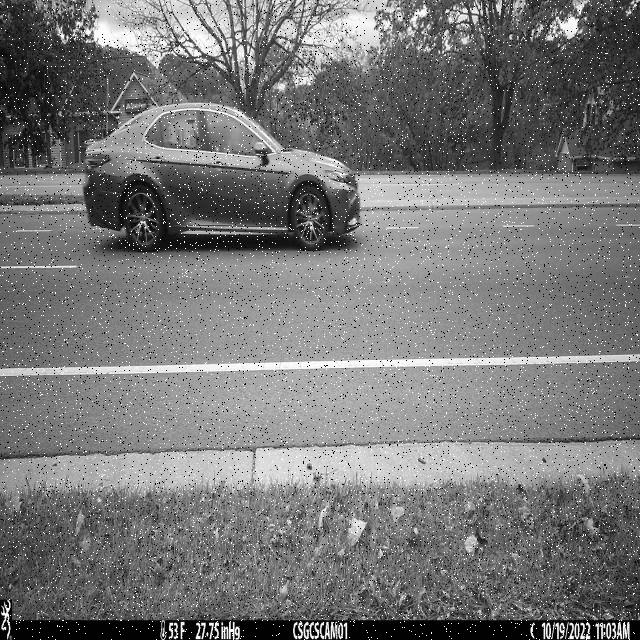Sedan: (82, 102, 361, 253)
